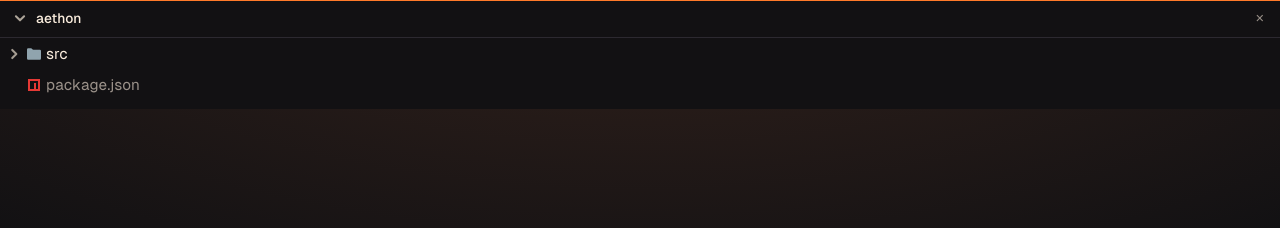
Test: FileTreePanel › keeps expanded descendants visible when the root listing refreshes
The image size is (1280, 228).
Click the text "src" at (57, 54), box [46,45,68,62]
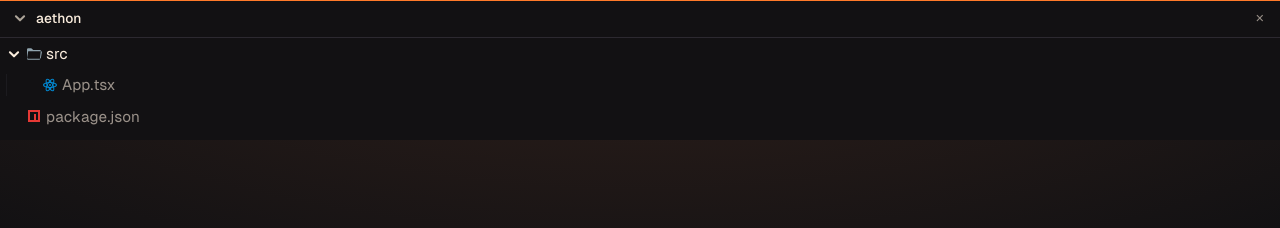
Result: the text "App.tsx" is shown at [62,76,115,93]
Result: the list item "src" is expanded at [7,45,68,62]
